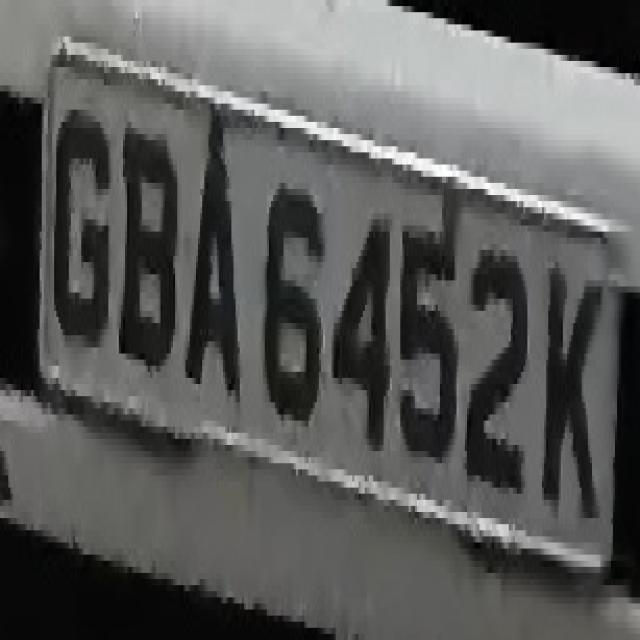2: (458, 226, 532, 524)
4: (323, 183, 396, 463)
5: (396, 189, 457, 494)
6: (259, 158, 323, 445)
A: (186, 91, 248, 439)
B: (117, 104, 183, 378)
G: (48, 97, 115, 372)
K: (536, 244, 606, 548)
